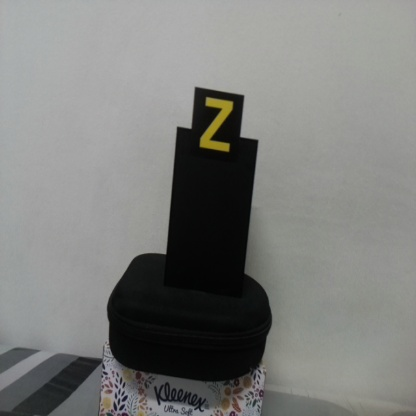id_15: (193, 88, 241, 162)
